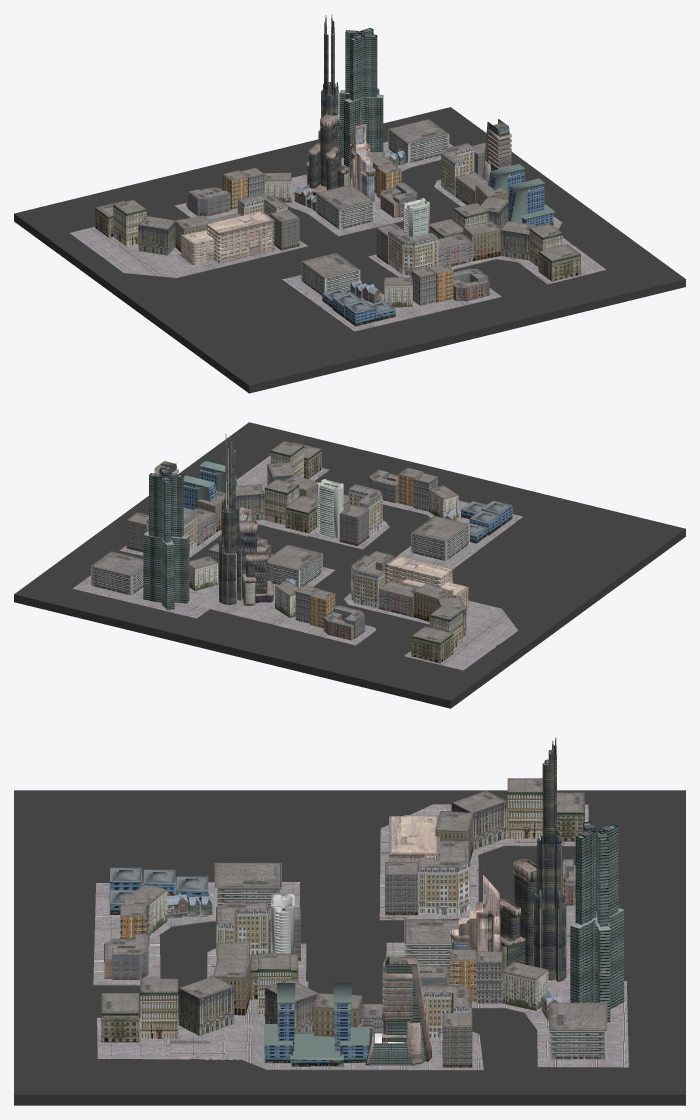
The model's file is TheCity.obj.
The picture shows the model from 3 angles, top to bottom: view 1: azimuth 30°, elevation 25°; view 2: azimuth 150°, elevation 25°; view 3: azimuth 270°, elevation 25°; orthographic projection. The views are drawn at different scales.
Parts seen in each view (by area): view 1: g, g mesh01, g bldgs2, defaultobject; view 2: g, g mesh01, g bldgs2, defaultobject; view 3: g, g mesh01, g bldgs2, defaultobject.
Boxes of the visible parts, x1,y1,x2,y2 form: g: (14,107,685,393); g mesh01: (95,119,580,307); g bldgs2: (180,14,555,326); defaultobject: (70,141,606,331); g: (14,422,685,708); g mesh01: (91,441,469,663); g bldgs2: (143,434,512,610); defaultobject: (72,455,522,670); g: (14,790,685,1105); g mesh01: (101,778,607,1067); g bldgs2: (109,737,624,1067); defaultobject: (93,804,628,1070).
Size of the model in its own units: 2277 by 871 by 2124.
